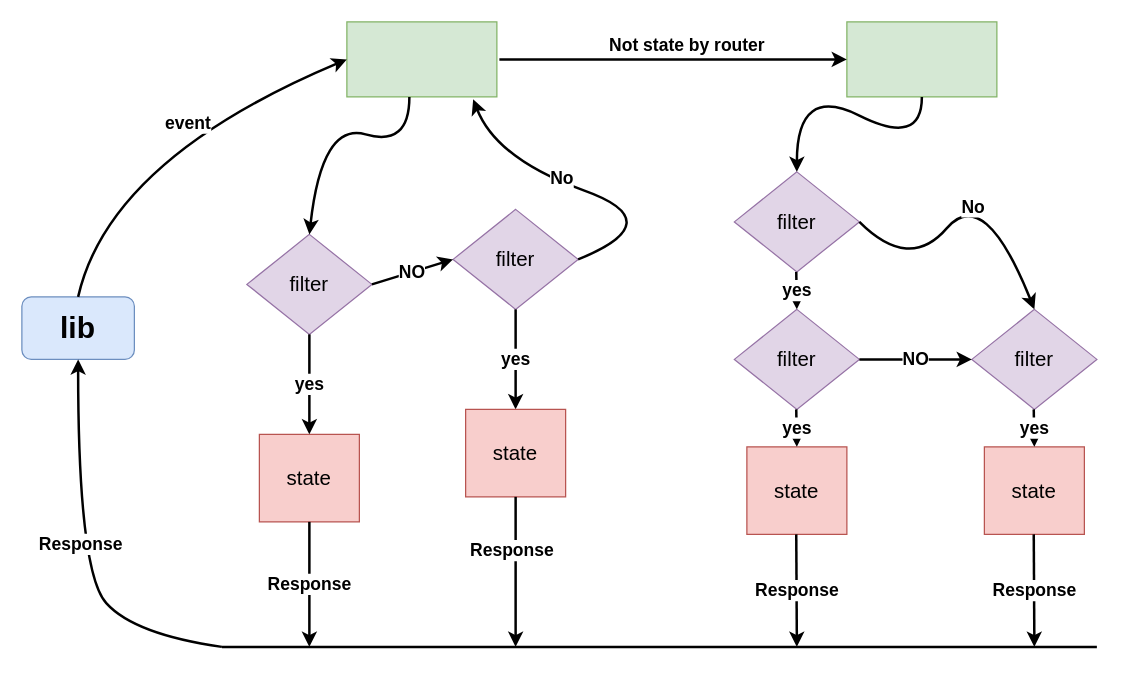
The diagram is 1121 pixels wide and 680 high, and some of its shapes have lost their labels. The centre of each missing label's shape, as x and y in pixels:
"MainRouter" belongs at point 421,59.
"Router" belongs at point 921,59.
